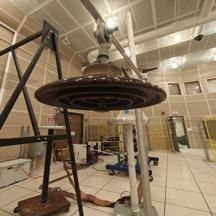insulator: (31, 54, 174, 120)
